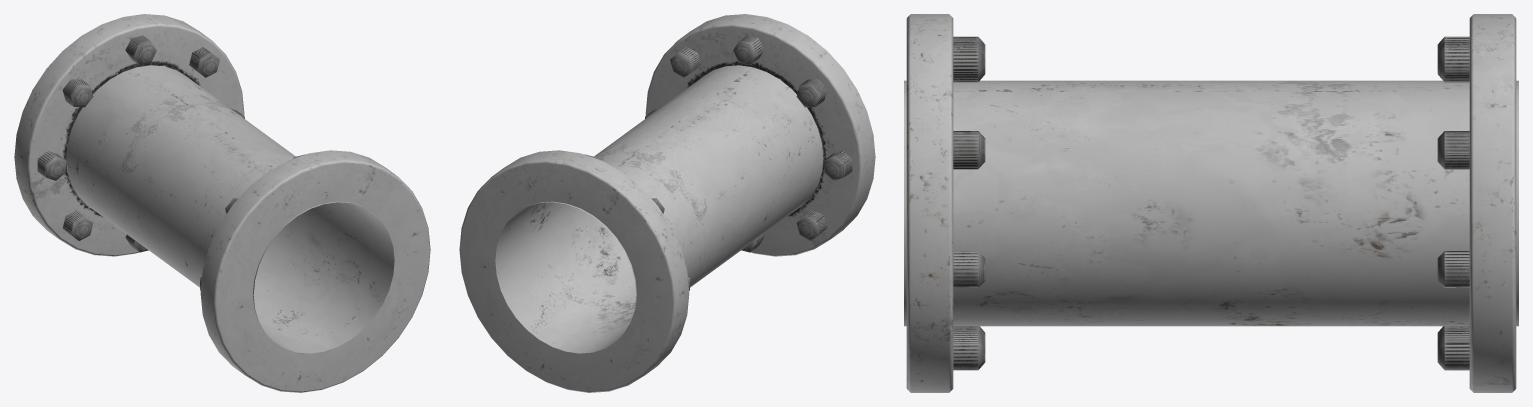
Rendered from Modular_Small_Pipe_Straight_1m.fbx.
3 renders of one model, left to right at view 1: azimuth 30°, elevation 25°; view 2: azimuth 150°, elevation 25°; view 3: azimuth 270°, elevation 25°, orthographic. The views are drawn at different scales.
Visible parts, largest first — view 1: Modular_Small_Pipe_Straight_1m_LOD0; view 2: Modular_Small_Pipe_Straight_1m_LOD0; view 3: Modular_Small_Pipe_Straight_1m_LOD0.
Boxes of the visible parts, x1,y1,x2,y2 form: Modular_Small_Pipe_Straight_1m_LOD0: (14,14,430,392); Modular_Small_Pipe_Straight_1m_LOD0: (459,14,875,392); Modular_Small_Pipe_Straight_1m_LOD0: (904,14,1518,392).
Size of what is drawn, in the model's own units: 0.617 by 0.617 by 1.
